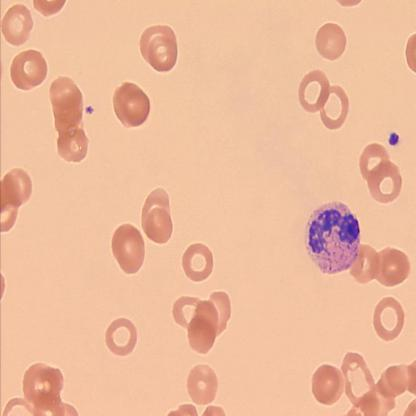Segmented neutrophil: (302, 199, 362, 277)
